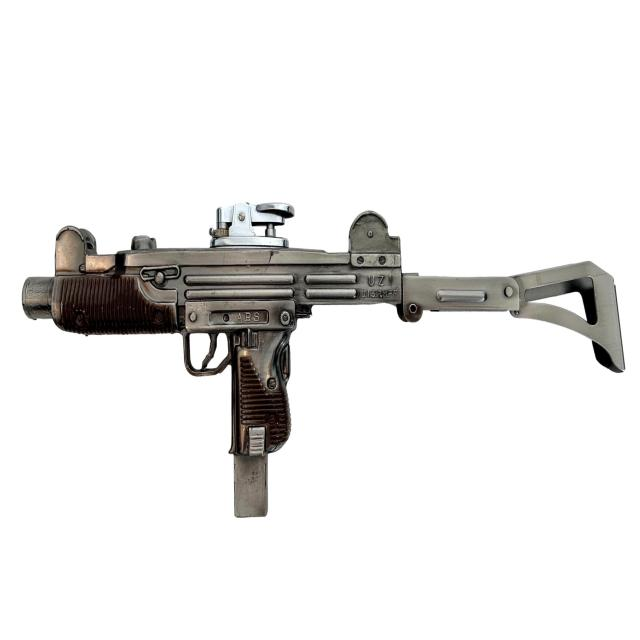SMG: (21, 201, 627, 520)
